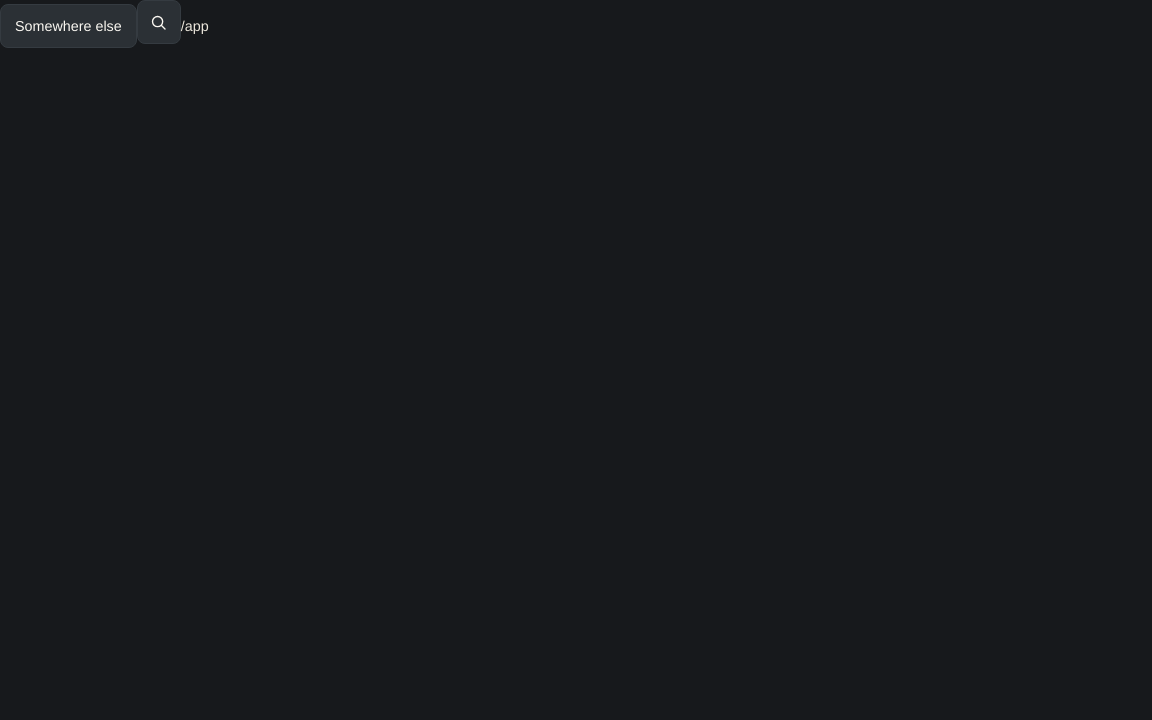
CommandBar (#351) › filters as you type, and Enter jumps to the match
Press k
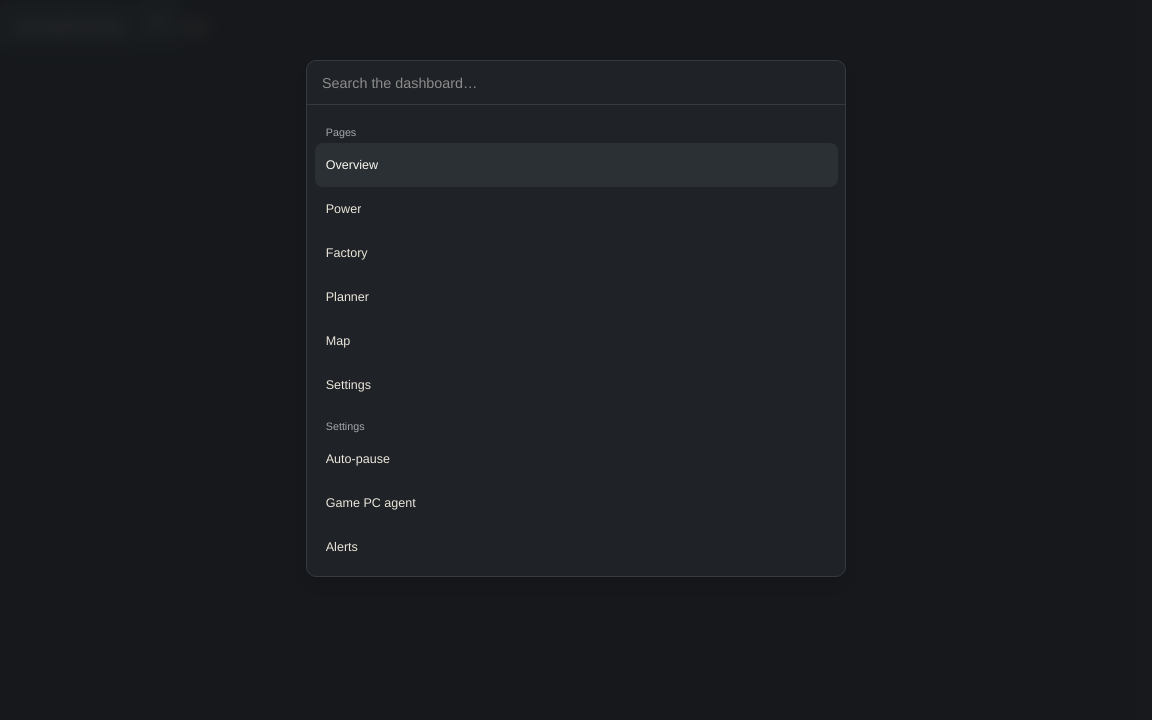
In the dropdown: (576, 83) [307,61,845,105], type "alerts"
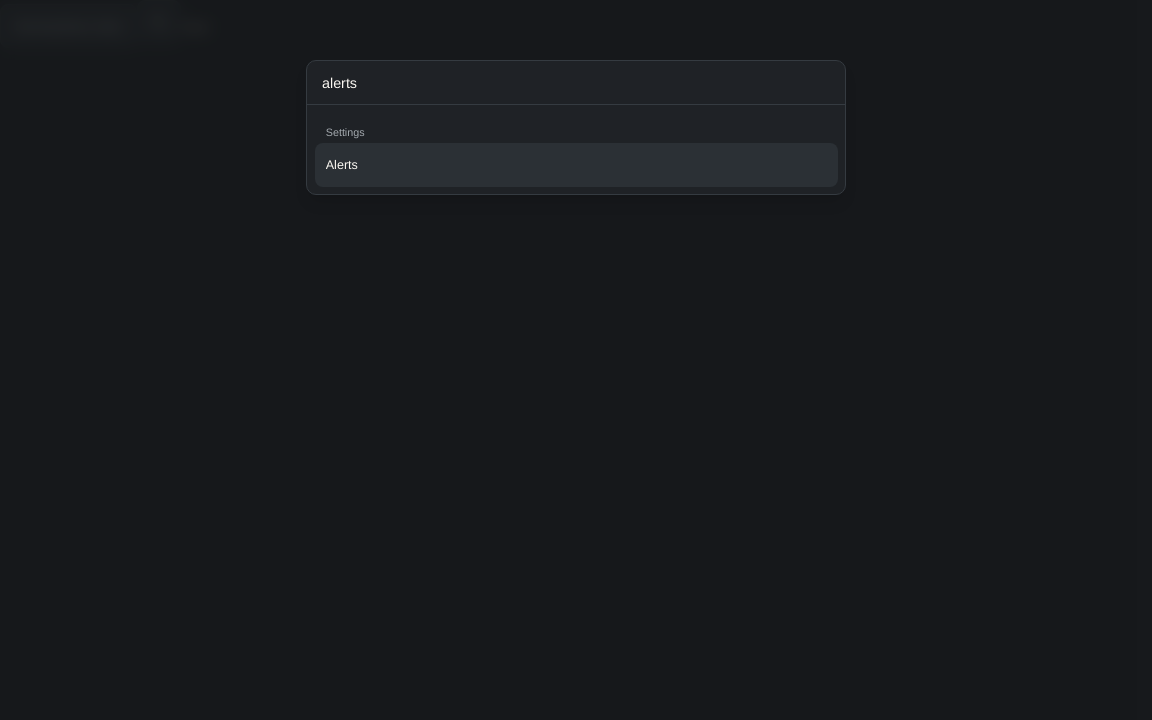
Check: the option "Power" is gone
Press Enter in the dropdown, box [307,61,845,105]
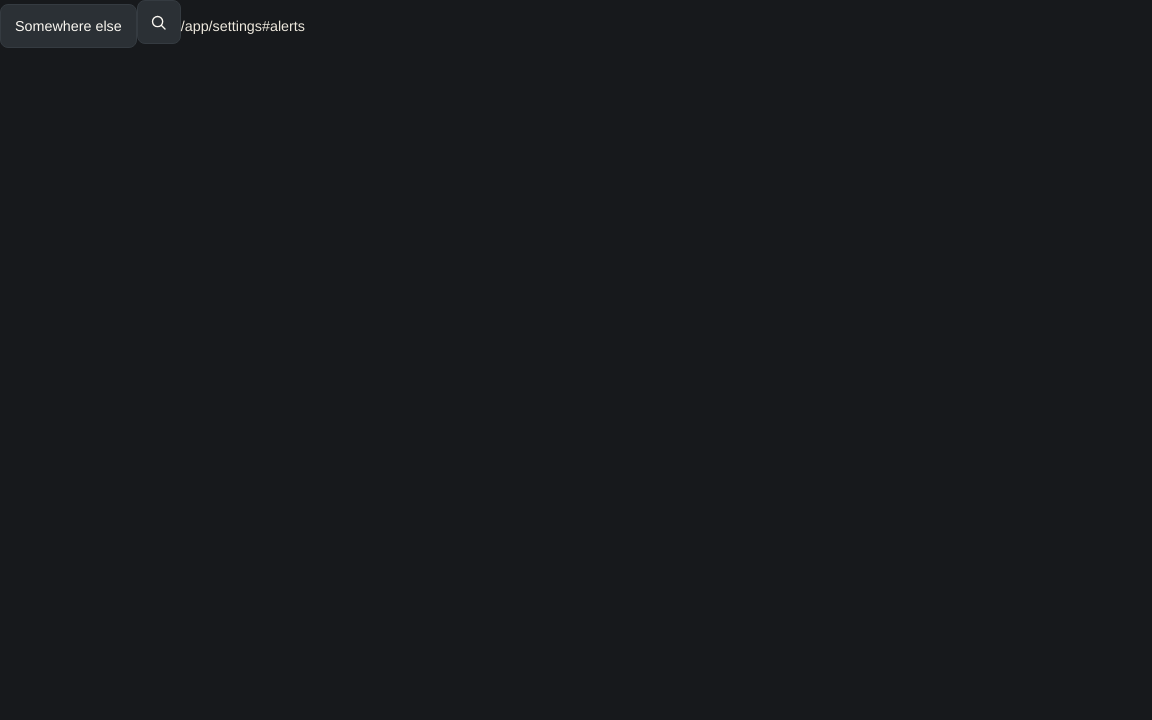
Check: the text named "URL" reads "/app/settings#alerts", box [181,16,305,34]
Check: the dropdown is gone
